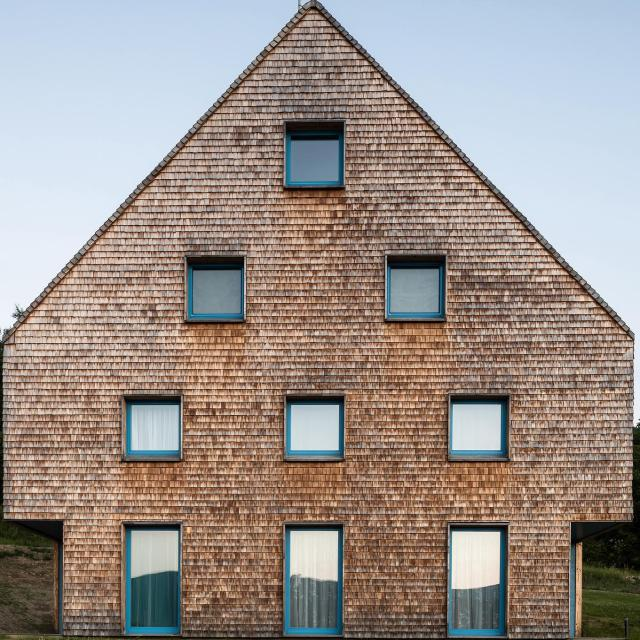windows: (449, 526, 509, 640), (285, 521, 343, 637), (124, 527, 181, 637), (184, 264, 247, 318), (386, 260, 443, 314), (286, 131, 341, 185), (124, 400, 180, 452), (290, 399, 344, 452), (452, 399, 504, 454)
